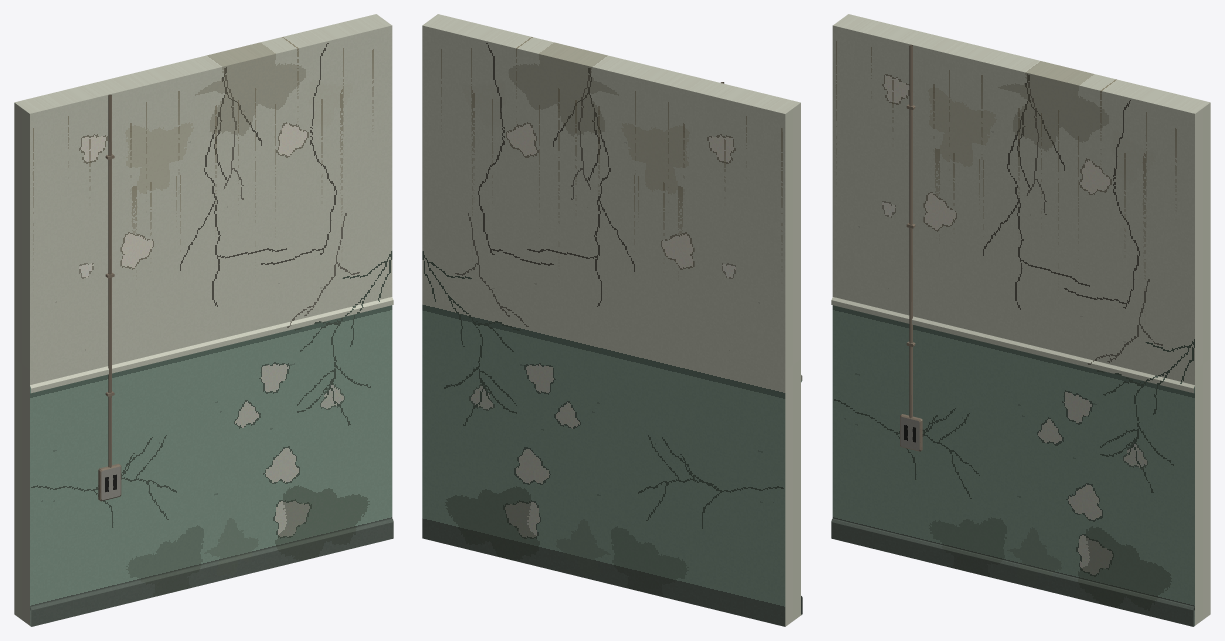
File: wall_4c.glb
3 views of the same model, side by side, from view 1: azimuth 30°, elevation 25°; view 2: azimuth 150°, elevation 25°; view 3: azimuth 330°, elevation 25° (orthographic).
Parts seen in each view (by area): view 1: wall_body, conduit_pipe, outlet_box; view 2: wall_body; view 3: wall_body, conduit_pipe, outlet_box.
Boxes of the visible parts, x1,y1,x2,y2 form: wall_body: (14,14,393,626); conduit_pipe: (108,94,111,467); outlet_box: (98,463,121,501); wall_body: (422,14,802,626); wall_body: (831,14,1210,626); conduit_pipe: (909,44,912,418); outlet_box: (900,414,922,451).
Size of the model in its own units: 2 by 2.7 by 0.17.
1 material, 1 textured.
